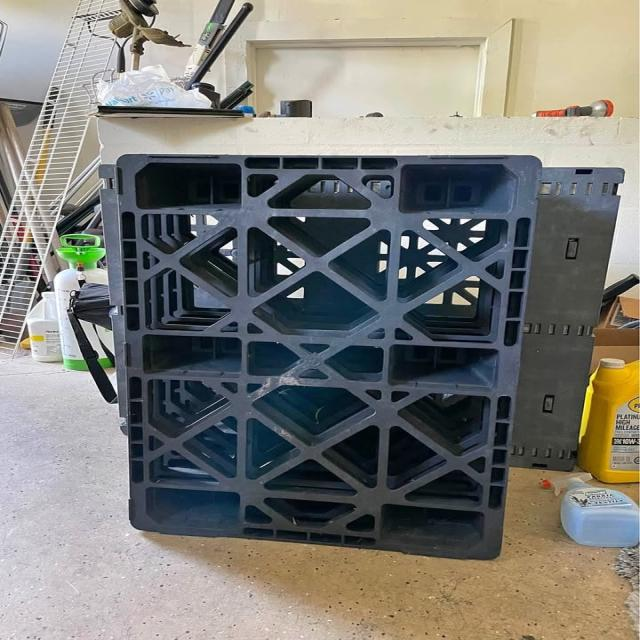non-igps: (109, 148, 552, 565), (478, 162, 632, 478)
